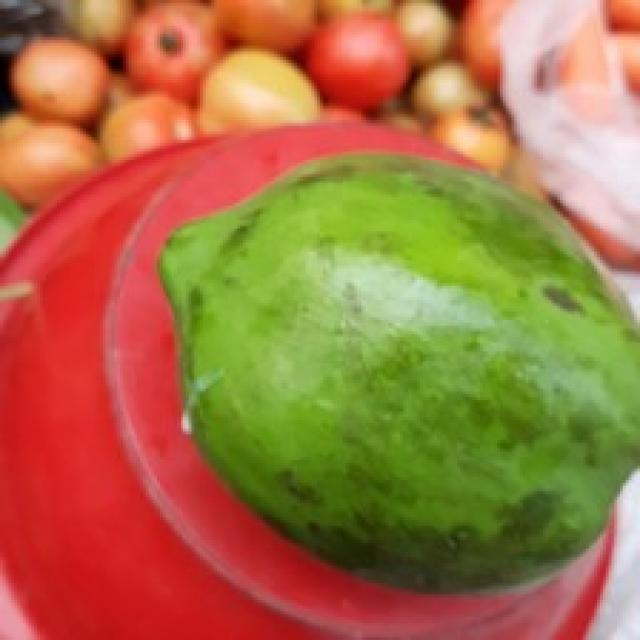Pepaya unrippen: (145, 140, 640, 600)
